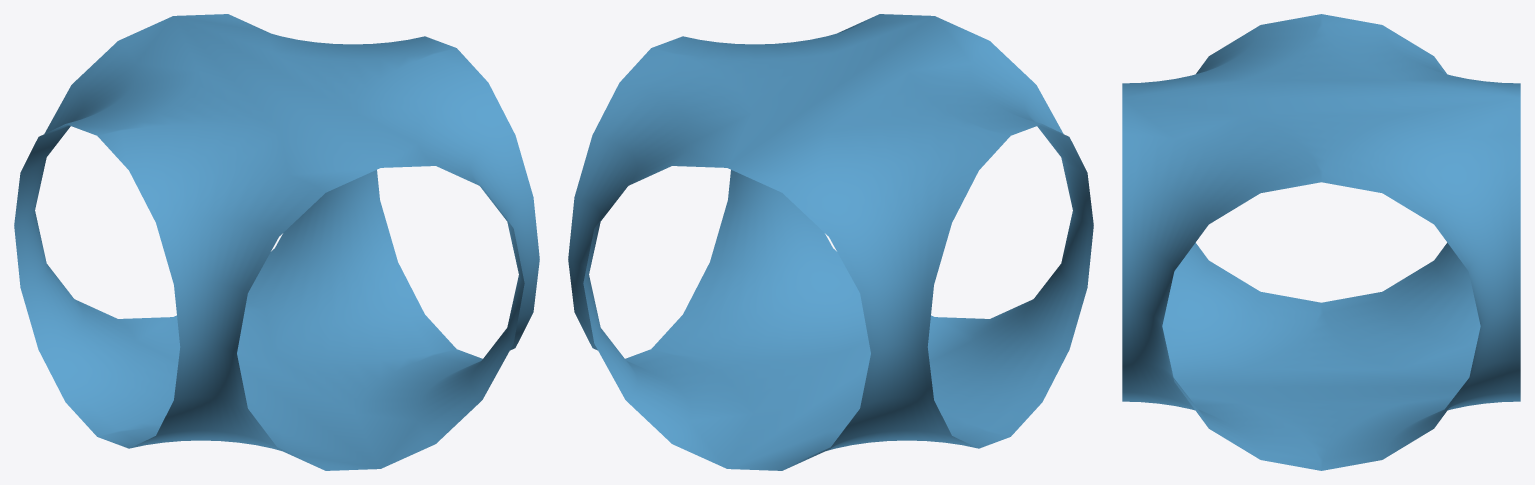
Rendered from pipe-intersection-2.obj.
The picture shows the model from 3 angles, left to right: view 1: azimuth 30°, elevation 25°; view 2: azimuth 150°, elevation 25°; view 3: azimuth 270°, elevation 25°; orthographic projection. The views are drawn at different scales.
Visible parts, largest first — view 1: Torus_Torus.001; view 2: Torus_Torus.001; view 3: Torus_Torus.001.
Part boxes in pixels (left/top/right/bottom): Torus_Torus.001: left=14, top=14, right=539, bottom=470; Torus_Torus.001: left=568, top=14, right=1093, bottom=470; Torus_Torus.001: left=1122, top=14, right=1520, bottom=470.
Size of the model in its own units: 1 by 0.8 by 1.
